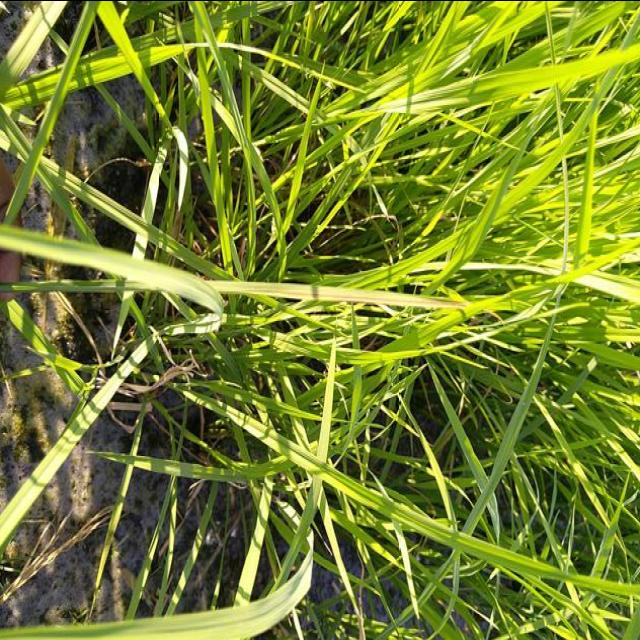Leaf Streak: (206, 278, 468, 305)
